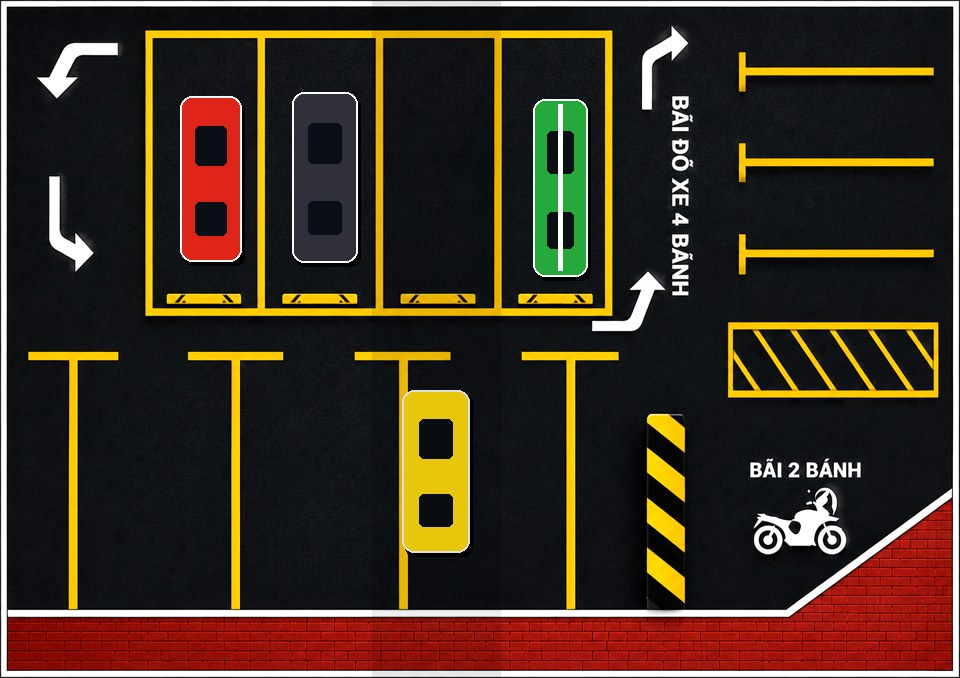empty: (35, 351, 199, 598), (201, 351, 357, 598), (524, 351, 672, 598), (386, 35, 505, 309)
occupied: (360, 351, 518, 598), (148, 35, 267, 309), (267, 35, 386, 309), (505, 35, 624, 309)
